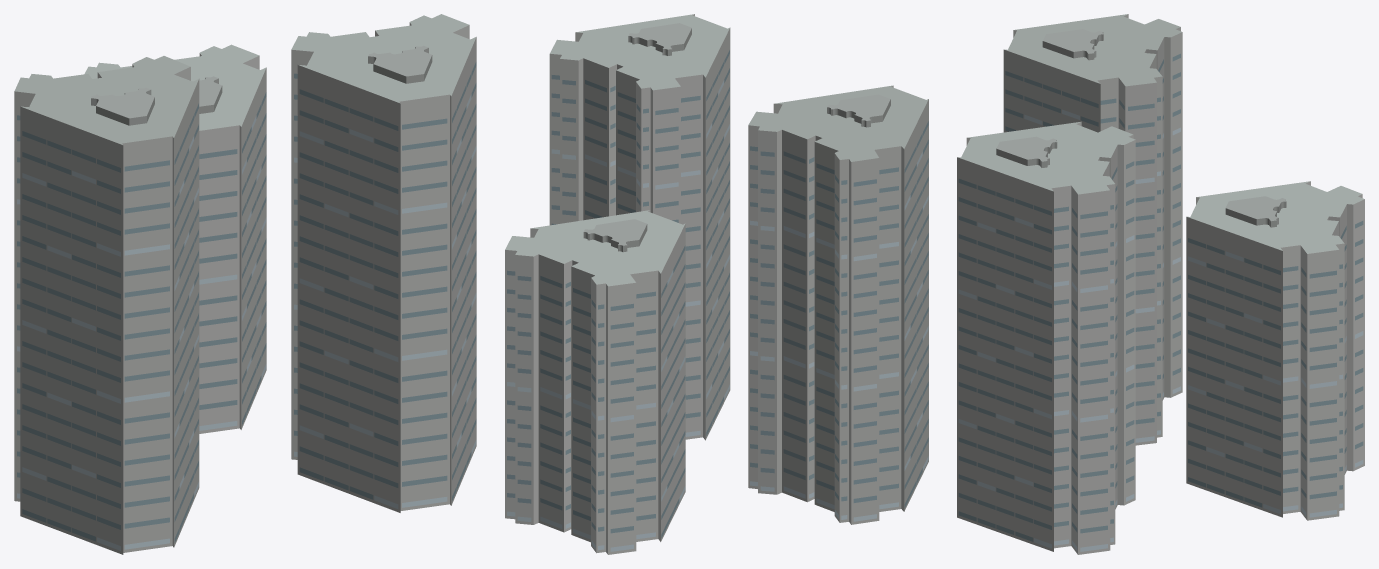
Rendered from apt-a12174601.glb.
3 views of the same model, side by side, from view 1: azimuth 30°, elevation 25°; view 2: azimuth 150°, elevation 25°; view 3: azimuth 270°, elevation 25° (orthographic). The views are drawn at different scales.
Visible parts, largest first — view 1: apt-a12174601; view 2: apt-a12174601; view 3: apt-a12174601.
Part boxes in pixels (bbox=[...]): apt-a12174601: bbox=[14, 14, 476, 554]; apt-a12174601: bbox=[505, 14, 928, 554]; apt-a12174601: bbox=[957, 14, 1364, 554].
Bounding box in the file's own units: 145 × 137 × 138.
